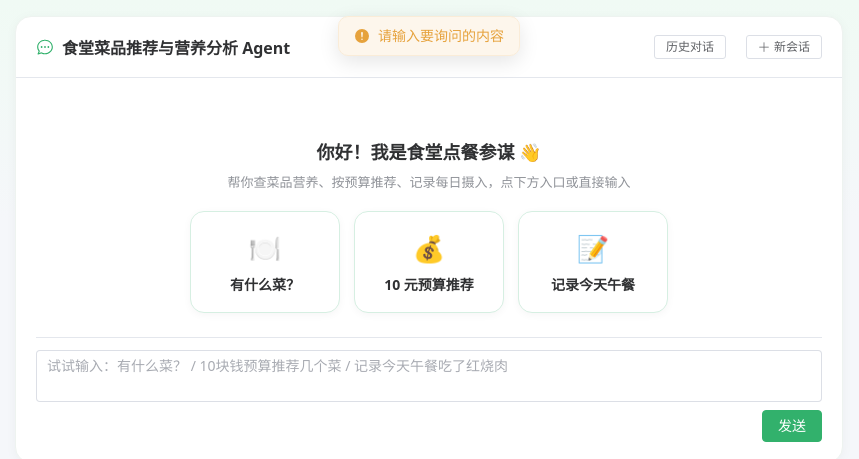
it: ChatView › 流式失败时回退到普通 /chat
The image size is (859, 459).
Type "hi" into the text box with placeholder "试试输入：有什么菜？ / 10块钱预算推荐几个菜 / 记录今天午餐吃了红烧肉". click: (429, 376)
box: [36, 350, 822, 402]
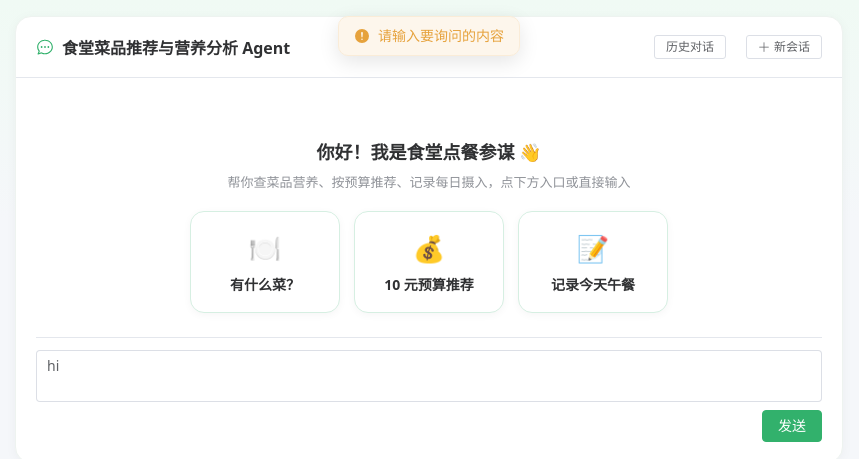
Click the button "发送". click: click(792, 426)
box: [762, 410, 822, 442]
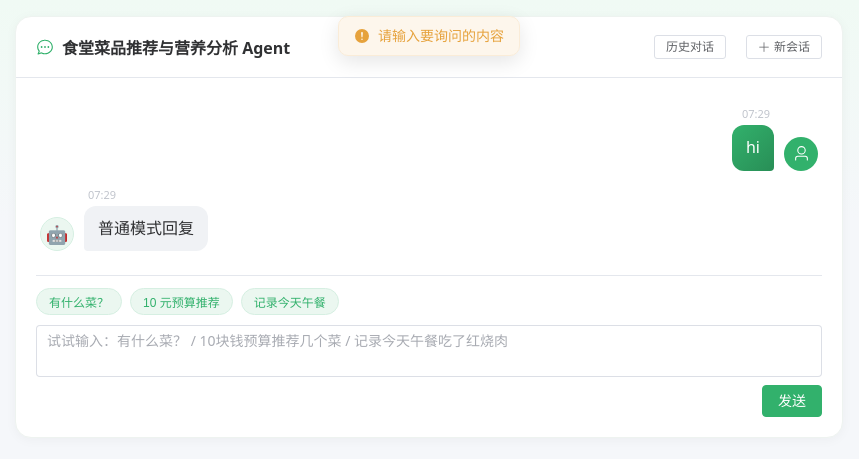
Expected: the text with class "chat-bubble" reads "普通模式回复", [98, 217, 194, 239]
